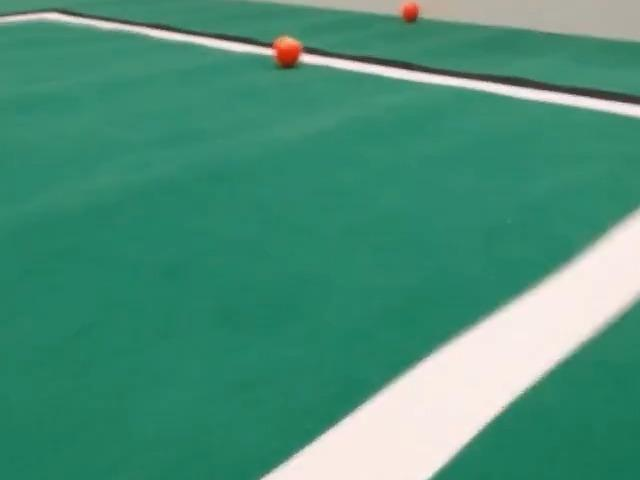Ball: (273, 36, 302, 68), (400, 0, 419, 22)
